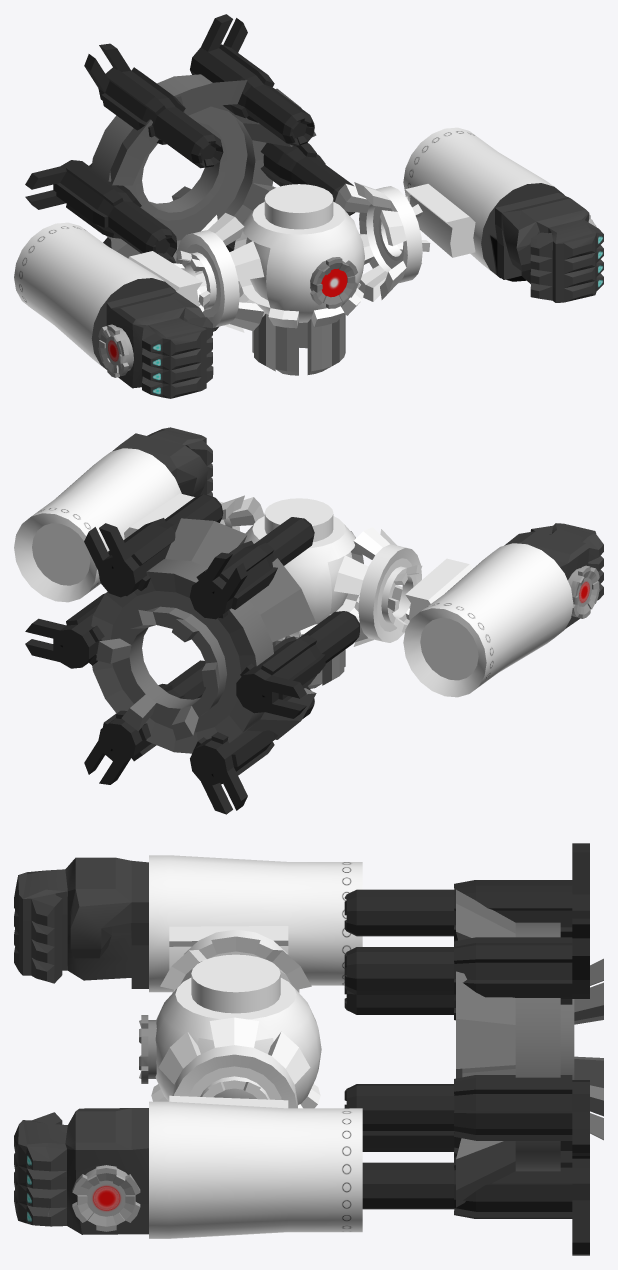
File: O_005_BOSS_Enemy_04.fbx
The picture shows the model from 3 angles, top to bottom: view 1: azimuth 30°, elevation 25°; view 2: azimuth 150°, elevation 25°; view 3: azimuth 270°, elevation 25°; orthographic projection. The views are drawn at different scales.
Parts seen in each view (by area): view 1: オブジェクト002, オブジェクト001, Sphere002, Cylinder003, Cylinder009, Cylinder010, Cylinder001, Cylinder002, Cylinder011, Cylinder006; view 2: Cylinder003, オブジェクト002, オブジェクト001, Sphere002, Cylinder009, Cylinder002, Cylinder010, Cylinder011, Cylinder008, Cylinder007, Cylinder006, Cylinder001; view 3: オブジェクト001, オブジェクト002, Cylinder003, Cylinder006, Cylinder011, Sphere002, Cylinder007, Cylinder010, Cylinder001, Cylinder002, Cylinder008, Cylinder009.
Part boxes in pixels (bbox=[...]): オブジェクト002: bbox=[14, 222, 213, 398]; オブジェクト001: bbox=[403, 127, 603, 302]; Sphere002: bbox=[234, 184, 364, 375]; Cylinder003: bbox=[91, 74, 316, 282]; Cylinder009: bbox=[25, 160, 176, 259]; Cylinder010: bbox=[84, 43, 223, 168]; Cylinder001: bbox=[335, 182, 430, 301]; Cylinder002: bbox=[173, 213, 264, 332]; Cylinder011: bbox=[190, 14, 314, 146]; Cylinder006: bbox=[260, 142, 354, 215]; Cylinder003: bbox=[91, 518, 316, 753]; オブジェクト002: bbox=[403, 523, 603, 697]; オブジェクト001: bbox=[14, 427, 212, 602]; Sphere002: bbox=[244, 498, 363, 688]; Cylinder009: bbox=[236, 611, 359, 718]; Cylinder002: bbox=[334, 527, 422, 646]; Cylinder010: bbox=[189, 517, 314, 619]; Cylinder011: bbox=[84, 494, 223, 597]; Cylinder008: bbox=[190, 686, 314, 814]; Cylinder007: bbox=[84, 660, 205, 784]; Cylinder006: bbox=[25, 593, 104, 668]; Cylinder001: bbox=[219, 495, 264, 531]; オブジェクト001: bbox=[14, 1095, 362, 1238]; オブジェクト002: bbox=[14, 855, 362, 992]; Cylinder003: bbox=[456, 889, 603, 1207]; Cylinder006: bbox=[344, 1075, 589, 1152]; Cylinder011: bbox=[344, 918, 589, 1004]; Sphere002: bbox=[139, 954, 321, 1108]; Cylinder007: bbox=[362, 1153, 589, 1255]; Cylinder010: bbox=[344, 843, 589, 941]; Cylinder001: bbox=[158, 1017, 310, 1108]; Cylinder002: bbox=[160, 929, 311, 992]; Cylinder008: bbox=[362, 1131, 589, 1158]; Cylinder009: bbox=[344, 987, 455, 1020].
Size of the model in its own units: 21047 by 10671 by 17211.
1 material, 1 textured.
